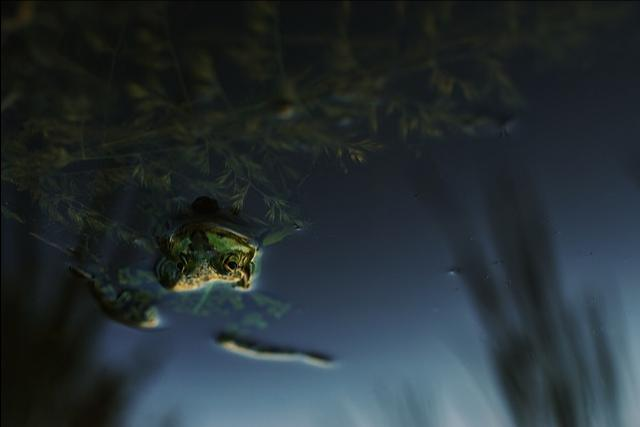Non_Gorille: (10, 55, 532, 414)
